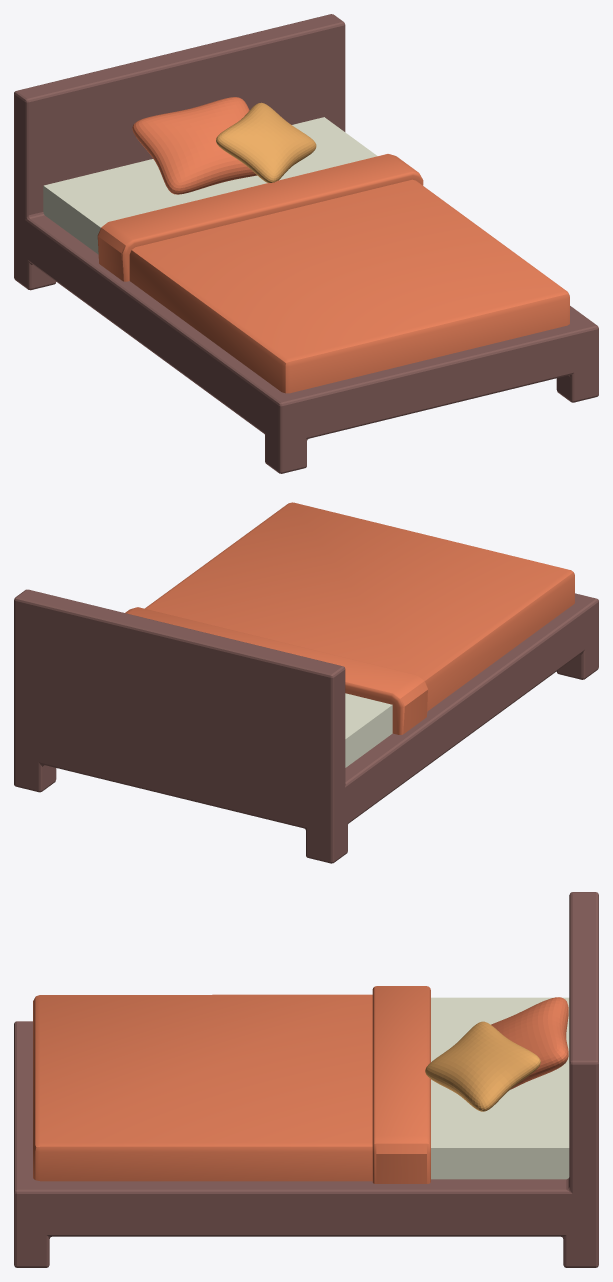
Rendered from Bed.fbx.
3 renders of one model, top to bottom at view 1: azimuth 30°, elevation 25°; view 2: azimuth 150°, elevation 25°; view 3: azimuth 270°, elevation 25°, orthographic. The views are drawn at different scales.
Parts seen in each view (by area): view 1: Mattress; view 2: Mattress; view 3: Mattress.
Part boxes in pixels (bbox=[...]): Mattress: bbox=[14, 14, 598, 473]; Mattress: bbox=[14, 502, 598, 863]; Mattress: bbox=[14, 892, 598, 1267].
Size of the model in its own units: 268 by 151 by 388.
